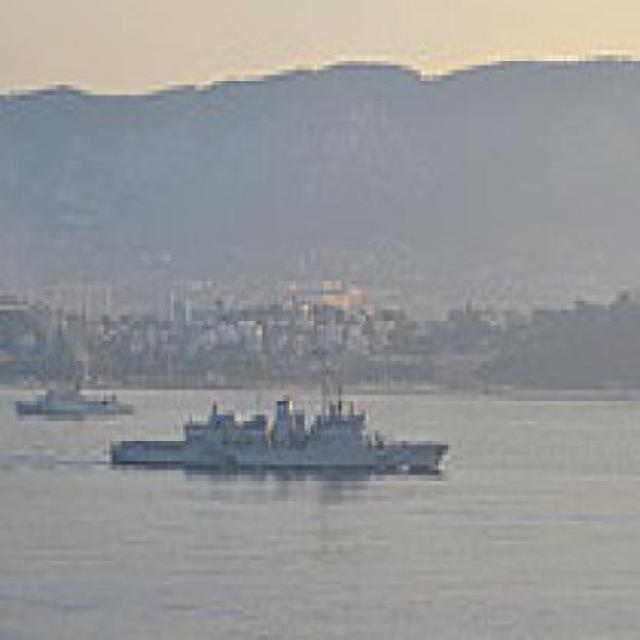warship2: (104, 376, 476, 481)
